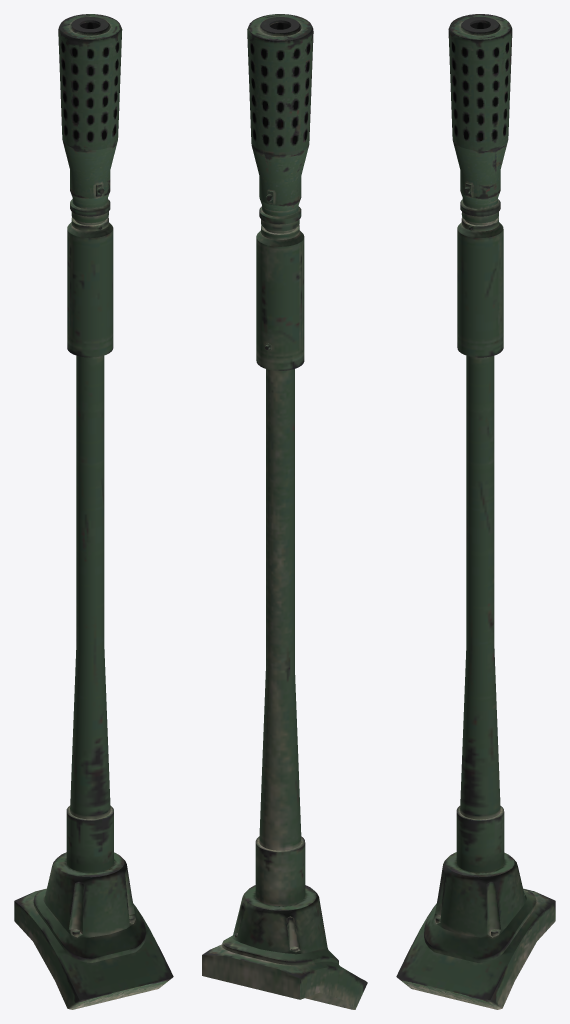
Rendered from Gun_02.glb.
3 renders of one model, left to right at view 1: azimuth 30°, elevation 25°; view 2: azimuth 150°, elevation 25°; view 3: azimuth 330°, elevation 25°, orthographic. The views are drawn at different scales.
Visible parts, largest first — view 1: set_0_group_0; view 2: set_0_group_0; view 3: set_0_group_0.
Part boxes in pixels (left/top/right/bottom): set_0_group_0: left=14, top=14, right=173, bottom=1009; set_0_group_0: left=202, top=14, right=367, bottom=1009; set_0_group_0: left=396, top=14, right=555, bottom=1009.
Size of the model in its own units: 0.3946 by 3.82 by 0.4816.
1 material, 1 textured.
